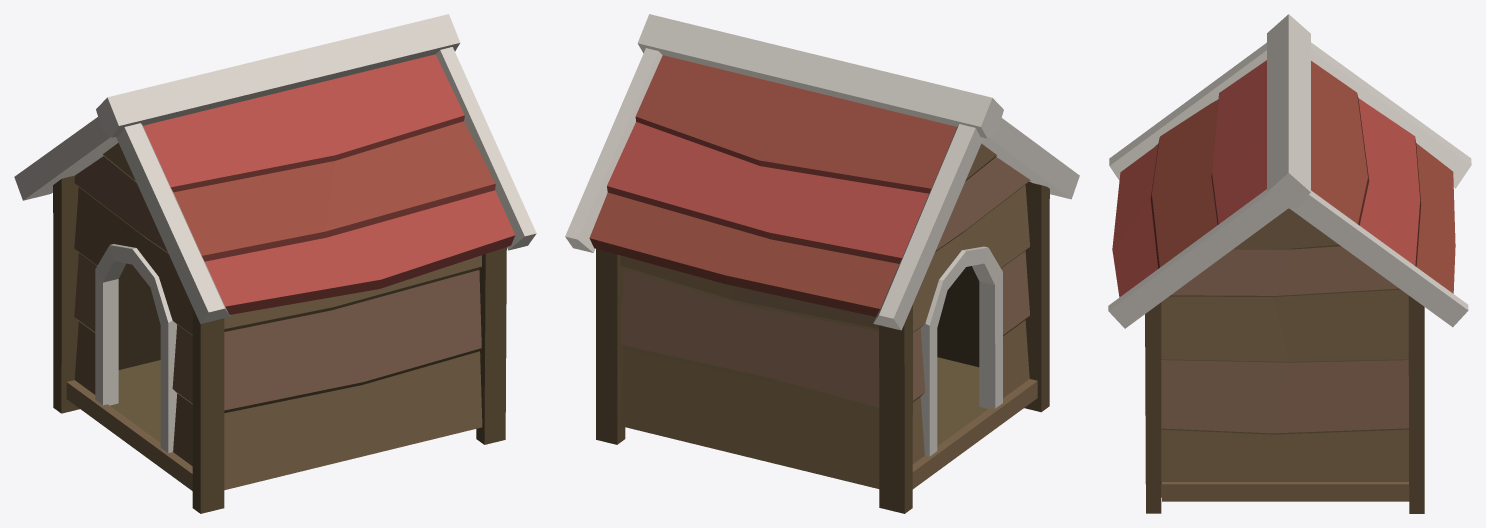
Rendered from SM_Prop_Doghouse_01.fbx.
3 views of the same model, side by side, from view 1: azimuth 30°, elevation 25°; view 2: azimuth 150°, elevation 25°; view 3: azimuth 270°, elevation 25° (orthographic). The views are drawn at different scales.
Visible parts, largest first — view 1: SM_Prop_Doghouse_01; view 2: SM_Prop_Doghouse_01; view 3: SM_Prop_Doghouse_01.
Part boxes in pixels (bbox=[...]): SM_Prop_Doghouse_01: bbox=[14, 14, 536, 513]; SM_Prop_Doghouse_01: bbox=[565, 14, 1079, 513]; SM_Prop_Doghouse_01: bbox=[1108, 14, 1471, 513].
Size of the model in its own units: 123 by 126 by 119.
